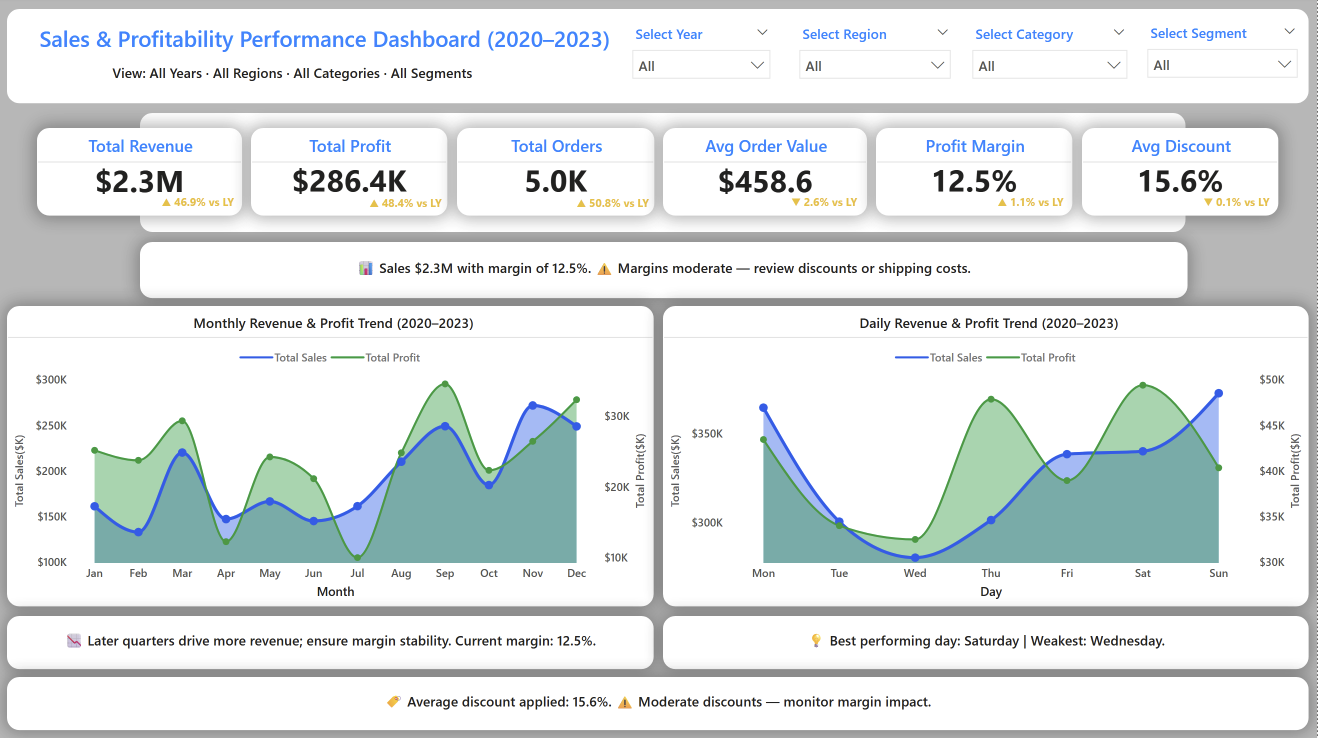

The page's visual inventory and layout, read from the dashboard file:
{"tool":"powerbi","page":{"name":"Executive Overview","canvas":[1280,720],"ordinal":0},"visuals":[{"type":"shape","box":[8.7,11.7,1263.2,91.3],"z":0,"group":"g15"},{"type":"card","title":"Total Revenue","fields":{"Values":["_measures.Context Banner"]},"box":[38.8,58.3,493.6,35],"z":0,"group":"g14"},{"type":"shape","box":[138,112.7,1014.4,115.6],"z":0,"group":"g6"},{"type":"card","title":"Total Revenue","fields":{"Values":["_measures.Total Sales"]},"box":[37.9,127.3,198.9,85.2],"z":0,"group":"g1"},{"type":"card","title":"Total Profit","fields":{"Values":["_measures.Total Profit"]},"box":[245.8,127.3,190.5,84.9],"z":0,"group":"g4"},{"type":"card","title":"Total Orders","fields":{"Values":["_measures.Total Orders"]},"box":[445,127.3,191.5,84.9],"z":0,"group":"g7"},{"type":"card","title":"Avg Order Value","fields":{"Values":["_measures.Average Order Value"]},"box":[645.2,127.3,198.2,85.1],"z":0,"group":"g8"},{"type":"card","title":"Profit Margin","fields":{"Values":["_measures.Profit Margin"]},"box":[852.2,127.3,190.5,84.9],"z":0,"group":"g9"},{"type":"card","title":"Avg Discount","fields":{"Values":["_measures.Average Discount"]},"box":[1052.3,127.3,190.5,84.9],"z":0,"group":"g10"},{"type":"card","title":"Total Revenue","fields":{"Values":["_measures.Sales Performance Insight"]},"box":[138,238.1,1016.4,54.4],"z":0,"group":"g2"},{"type":"lineChart","title":"Monthly Revenue & Profit Trend (2020–2023)","fields":{"Y":["_measures.Total Sales"],"Category":["Date.Short Month"],"Y2":["_measures.Total Profit"]},"box":[8.7,300.2,627.7,291.5],"z":0,"group":"g3"},{"type":"lineChart","title":"Daily Revenue & Profit Trend (2020–2023)","fields":{"Y":["_measures.Total Sales"],"Category":["Date.Short Day"],"Y2":["_measures.Total Profit"]},"box":[645.2,300.2,626.7,291.5],"z":0,"group":"g5"},{"type":"card","title":"Total Revenue","fields":{"Values":["_measures.Quarter Insight"]},"box":[8.7,600.5,627.7,51.5],"z":0,"group":"g11"},{"type":"card","title":"Total Revenue","fields":{"Values":["_measures.Weekday Insight"]},"box":[645.2,600.5,626.7,51.5],"z":0,"group":"g12"},{"type":"card","title":"Total Revenue","fields":{"Values":["_measures.Discount Insight"]},"box":[8.7,659.8,1263.2,51.5],"z":0,"group":"g13"},{"type":"group","id":"g1","title":"Group 1","box":[37.9,127.3,201.1,90.4],"z":1000,"group":"g6"},{"type":"group","id":"g2","title":"Group 1","box":[138,238.1,1016.4,54.4],"z":1000},{"type":"group","id":"g3","title":"Group 1","box":[8.7,300.2,627.7,291.5],"z":2000},{"type":"group","id":"g4","title":"Group 1","box":[245.8,127.3,190.4,90.4],"z":3000,"group":"g6"},{"type":"group","id":"g5","title":"Group 1","box":[645.2,300.2,626.7,291.5],"z":3000},{"type":"group","id":"g6","title":"Group 2","box":[37.9,112.7,1204.9,115.6],"z":4000},{"type":"group","id":"g7","title":"Group 1","box":[445,127.3,191.4,90.4],"z":4000,"group":"g6"},{"type":"textbox","box":[11.6,20.4,593.7,43.7],"z":5000,"group":"g15"},{"type":"group","id":"g8","title":"Group 1","box":[645.2,127.3,198.2,89.4],"z":5000,"group":"g6"},{"type":"card","title":"vs. LY","fields":{"Values":["_measures.Sales YoY Label"]},"box":[149.9,185.6,89.1,32.1],"z":5002,"group":"g1"},{"type":"card","title":"vs. LY","fields":{"Values":["_measures.Profit Margin YoY Label"]},"box":[961.9,186.2,80.8,30.2],"z":5002,"group":"g9"},{"type":"card","title":"vs. LY","fields":{"Values":["_measures.Discount YoY Label"]},"box":[1162,186.2,80.8,30.2],"z":5002,"group":"g10"},{"type":"card","title":"vs. LY","fields":{"Values":["_measures.AOV YoY Label"]},"box":[759.3,186.4,84.1,30.3],"z":5002,"group":"g8"},{"type":"card","title":"vs. LY","fields":{"Values":["_measures.Profit YoY Label"]},"box":[355.5,187.2,80.8,30.2],"z":5002,"group":"g4"},{"type":"card","title":"vs. LY","fields":{"Values":["_measures.Orders YoY Label"]},"box":[555.2,187.2,81.2,30.2],"z":5002,"group":"g7"},{"type":"slicer","fields":{"Values":["Date.Year"]},"box":[605.1,21.5,154.2,72.8],"z":6000,"group":"g15"},{"type":"group","id":"g9","title":"Group 1","box":[852.2,127.3,190.4,89.4],"z":6000,"group":"g6"},{"type":"slicer","fields":{"Values":["Location.Region"]},"box":[768,21.5,167.1,72.8],"z":7000,"group":"g15"},{"type":"group","id":"g10","title":"Group 1","box":[1052.3,127.3,190.5,89.1],"z":7000,"group":"g6"},{"type":"slicer","fields":{"Values":["Products.Category"]},"box":[935.1,21.5,170.3,72.8],"z":8000,"group":"g15"},{"type":"slicer","fields":{"Values":["Orders.Segment"]},"box":[1105.4,20.4,166,71.8],"z":9000,"group":"g15"},{"type":"group","id":"g11","title":"Group 1","box":[8.7,600.5,627.7,51.5],"z":10000},{"type":"group","id":"g12","title":"Group 1","box":[645.2,600.5,626.7,51.5],"z":11000},{"type":"group","id":"g13","title":"Group 1","box":[8.7,659.8,1263.2,51.5],"z":12000},{"type":"group","id":"g14","title":"Group 1","box":[38.8,58.3,493.6,35],"z":13000,"group":"g15"},{"type":"group","id":"g15","title":"Group 3","box":[8.7,11.7,1263.2,91.3],"z":13001}]}

Visuals, with their boxes in screenshot pixels (x1, y1, x2, y2), scaled from the page's 1280x720 canvas onto the 1318x738 screenshot:
shape: pyautogui.locateOnScreen(9, 12, 1310, 106)
"Total Revenue" card: pyautogui.locateOnScreen(40, 60, 548, 96)
shape: pyautogui.locateOnScreen(142, 116, 1187, 234)
"Total Revenue" card: pyautogui.locateOnScreen(39, 130, 244, 218)
"Total Profit" card: pyautogui.locateOnScreen(253, 130, 449, 218)
"Total Orders" card: pyautogui.locateOnScreen(458, 130, 655, 218)
"Avg Order Value" card: pyautogui.locateOnScreen(664, 130, 868, 218)
"Profit Margin" card: pyautogui.locateOnScreen(877, 130, 1074, 218)
"Avg Discount" card: pyautogui.locateOnScreen(1084, 130, 1280, 218)
"Total Revenue" card: pyautogui.locateOnScreen(142, 244, 1189, 300)
"Monthly Revenue & Profit Trend (2020–2023)" lineChart: pyautogui.locateOnScreen(9, 308, 655, 606)
"Daily Revenue & Profit Trend (2020–2023)" lineChart: pyautogui.locateOnScreen(664, 308, 1310, 606)
"Total Revenue" card: pyautogui.locateOnScreen(9, 616, 655, 668)
"Total Revenue" card: pyautogui.locateOnScreen(664, 616, 1310, 668)
"Total Revenue" card: pyautogui.locateOnScreen(9, 676, 1310, 729)
"Group 1" group: pyautogui.locateOnScreen(39, 130, 246, 223)
"Group 1" group: pyautogui.locateOnScreen(142, 244, 1189, 300)
"Group 1" group: pyautogui.locateOnScreen(9, 308, 655, 606)
"Group 1" group: pyautogui.locateOnScreen(253, 130, 449, 223)
"Group 1" group: pyautogui.locateOnScreen(664, 308, 1310, 606)
"Group 2" group: pyautogui.locateOnScreen(39, 116, 1280, 234)
"Group 1" group: pyautogui.locateOnScreen(458, 130, 655, 223)
textbox: pyautogui.locateOnScreen(12, 21, 623, 66)
"Group 1" group: pyautogui.locateOnScreen(664, 130, 868, 222)
"vs. LY" card: pyautogui.locateOnScreen(154, 190, 246, 223)
"vs. LY" card: pyautogui.locateOnScreen(990, 191, 1074, 222)
"vs. LY" card: pyautogui.locateOnScreen(1196, 191, 1280, 222)
"vs. LY" card: pyautogui.locateOnScreen(782, 191, 868, 222)
"vs. LY" card: pyautogui.locateOnScreen(366, 192, 449, 223)
"vs. LY" card: pyautogui.locateOnScreen(572, 192, 655, 223)
slicer - Date.Year: pyautogui.locateOnScreen(623, 22, 782, 97)
"Group 1" group: pyautogui.locateOnScreen(877, 130, 1074, 222)
slicer - Location.Region: pyautogui.locateOnScreen(791, 22, 963, 97)
"Group 1" group: pyautogui.locateOnScreen(1084, 130, 1280, 222)
slicer - Products.Category: pyautogui.locateOnScreen(963, 22, 1138, 97)
slicer - Orders.Segment: pyautogui.locateOnScreen(1138, 21, 1309, 95)
"Group 1" group: pyautogui.locateOnScreen(9, 616, 655, 668)
"Group 1" group: pyautogui.locateOnScreen(664, 616, 1310, 668)
"Group 1" group: pyautogui.locateOnScreen(9, 676, 1310, 729)
"Group 1" group: pyautogui.locateOnScreen(40, 60, 548, 96)
"Group 3" group: pyautogui.locateOnScreen(9, 12, 1310, 106)
